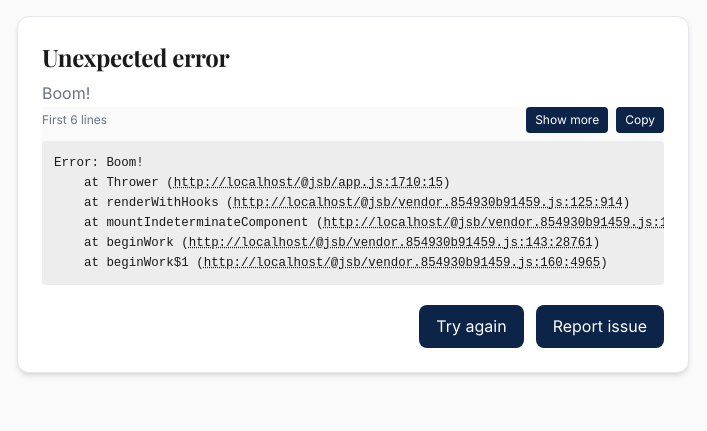
Test: RootErrorBoundary › sends report and shows ticket id
The image size is (707, 431).
Click the button "Report issue": (600, 326) [536,305,664,348]
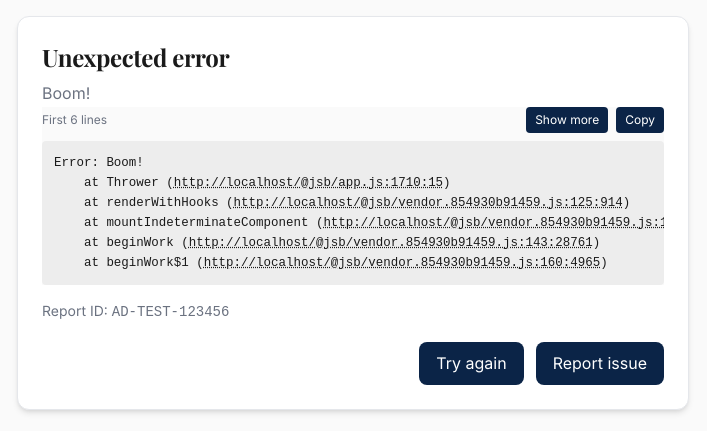
Expected: the text "AD-TEST-123456" is shown, [112,304,229,320]
